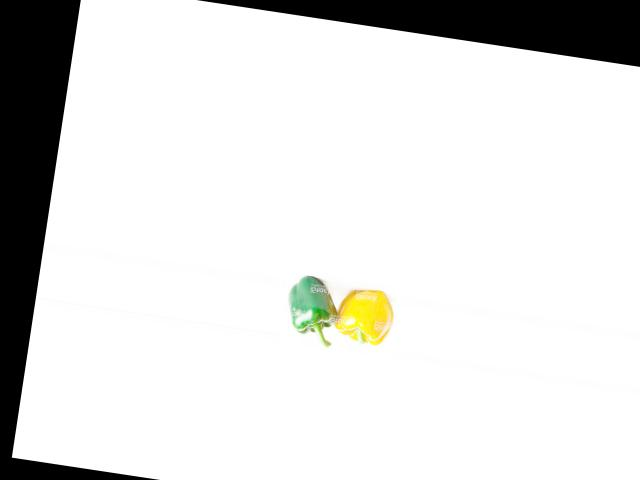bell_pepper: (278, 264, 343, 342)
